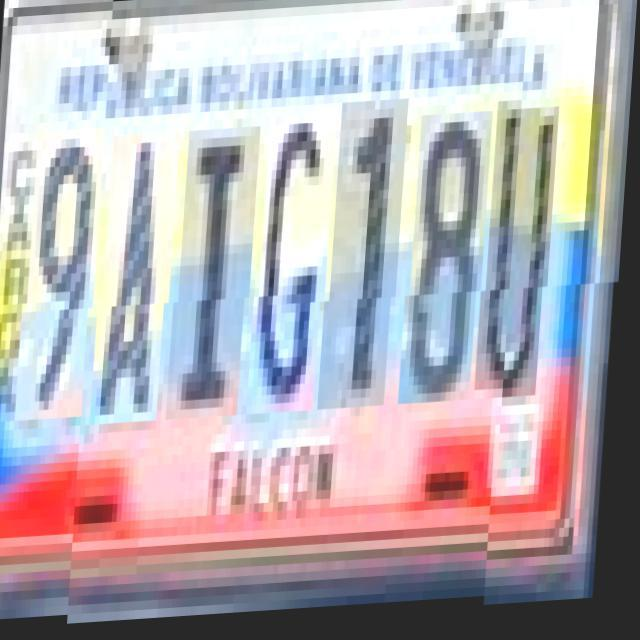1: (328, 104, 411, 414)
8: (409, 118, 495, 410)
9: (24, 138, 106, 430)
A: (100, 134, 182, 426)
G: (257, 117, 339, 418)
I: (176, 130, 262, 422)
U: (485, 105, 562, 398)
